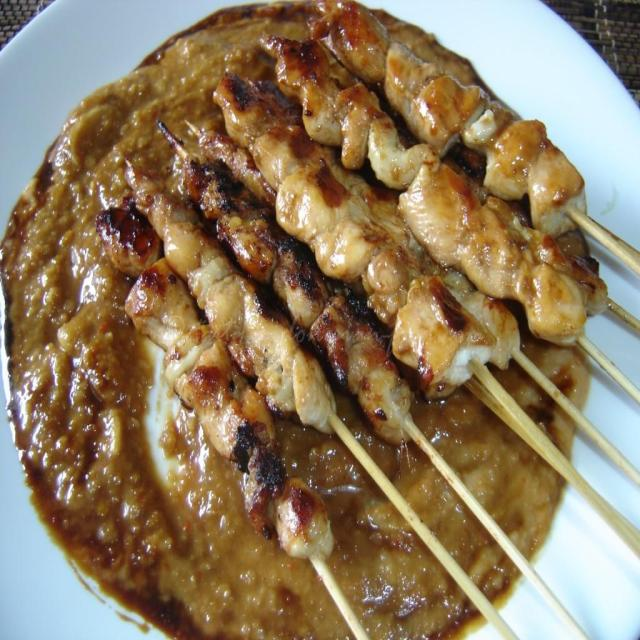Sate: (122, 55, 587, 600)
